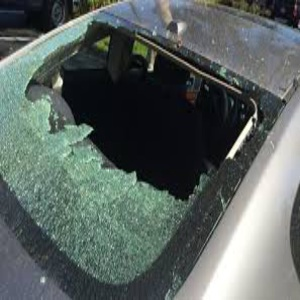rear_windshield_glass: (14, 44, 226, 251)
